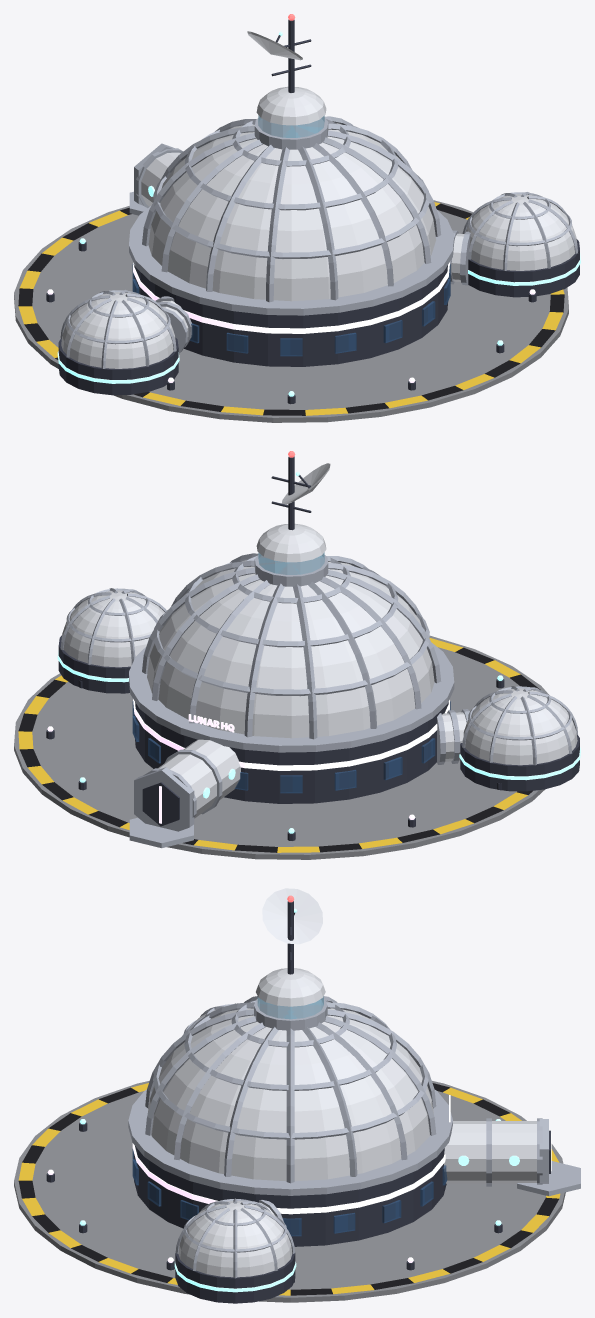
Rendered from CommandCenter.fbx.
3 renders of one model, top to bottom at view 1: azimuth 30°, elevation 25°; view 2: azimuth 150°, elevation 25°; view 3: azimuth 270°, elevation 25°, orthographic.
Visible parts, largest first — view 1: CommandCenter_MoonWhite, CommandCenter_Grey, CommandCenter_MoonPanel, CommandCenter_MoonDark, CommandCenter_Black, CommandCenter_Yellow, CommandCenter_GlassDark, CommandCenter_NeonPurple, CommandCenter_NeonCyan, CommandCenter_Glass; view 2: CommandCenter_MoonWhite, CommandCenter_MoonPanel, CommandCenter_Grey, CommandCenter_MoonDark, CommandCenter_Yellow, CommandCenter_Black, CommandCenter_GlassDark, CommandCenter_NeonPurple, CommandCenter_NeonCyan, CommandCenter_Glass; view 3: CommandCenter_MoonWhite, CommandCenter_Grey, CommandCenter_MoonPanel, CommandCenter_MoonDark, CommandCenter_Black, CommandCenter_Yellow, CommandCenter_GlassDark, CommandCenter_NeonPurple, CommandCenter_NeonCyan, CommandCenter_Glass.
Boxes of the visible parts, bbox=[...] form: CommandCenter_MoonWhite: bbox=[61, 31, 577, 368]; CommandCenter_Grey: bbox=[14, 200, 568, 422]; CommandCenter_MoonPanel: bbox=[60, 116, 577, 368]; CommandCenter_MoonDark: bbox=[46, 19, 579, 404]; CommandCenter_Black: bbox=[18, 203, 564, 415]; CommandCenter_Yellow: bbox=[18, 202, 564, 415]; CommandCenter_GlassDark: bbox=[132, 264, 450, 356]; CommandCenter_NeonPurple: bbox=[47, 262, 535, 382]; CommandCenter_NeonCyan: bbox=[57, 31, 580, 396]; CommandCenter_Glass: bbox=[258, 115, 324, 137]; CommandCenter_MoonWhite: bbox=[61, 463, 577, 818]; CommandCenter_MoonPanel: bbox=[60, 553, 577, 848]; CommandCenter_Grey: bbox=[14, 635, 549, 859]; CommandCenter_MoonDark: bbox=[46, 456, 579, 840]; CommandCenter_Yellow: bbox=[18, 638, 527, 852]; CommandCenter_Black: bbox=[18, 647, 540, 852]; CommandCenter_GlassDark: bbox=[132, 701, 450, 793]; CommandCenter_NeonPurple: bbox=[47, 699, 449, 823]; CommandCenter_NeonCyan: bbox=[57, 472, 580, 833]; CommandCenter_Glass: bbox=[258, 552, 324, 574]; CommandCenter_MoonWhite: bbox=[147, 888, 536, 1277]; CommandCenter_Grey: bbox=[14, 1081, 565, 1302]; CommandCenter_MoonPanel: bbox=[128, 996, 580, 1278]; CommandCenter_MoonDark: bbox=[46, 901, 550, 1303]; CommandCenter_Black: bbox=[18, 1083, 558, 1295]; CommandCenter_Yellow: bbox=[18, 1083, 560, 1295]; CommandCenter_GlassDark: bbox=[132, 1149, 447, 1236]; CommandCenter_NeonPurple: bbox=[47, 1095, 551, 1262]; CommandCenter_NeonCyan: bbox=[80, 908, 519, 1292]; CommandCenter_Glass: bbox=[257, 996, 323, 1019].
Size of the model in its own units: 63.2 by 34.7 by 61.46.
